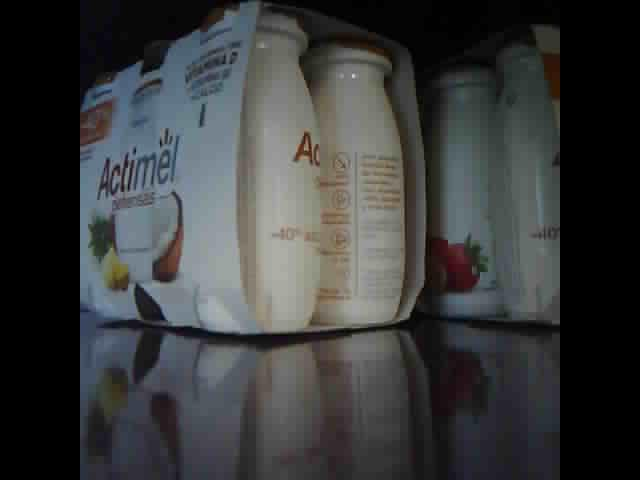actimel: (80, 1, 430, 342), (415, 22, 562, 328)
